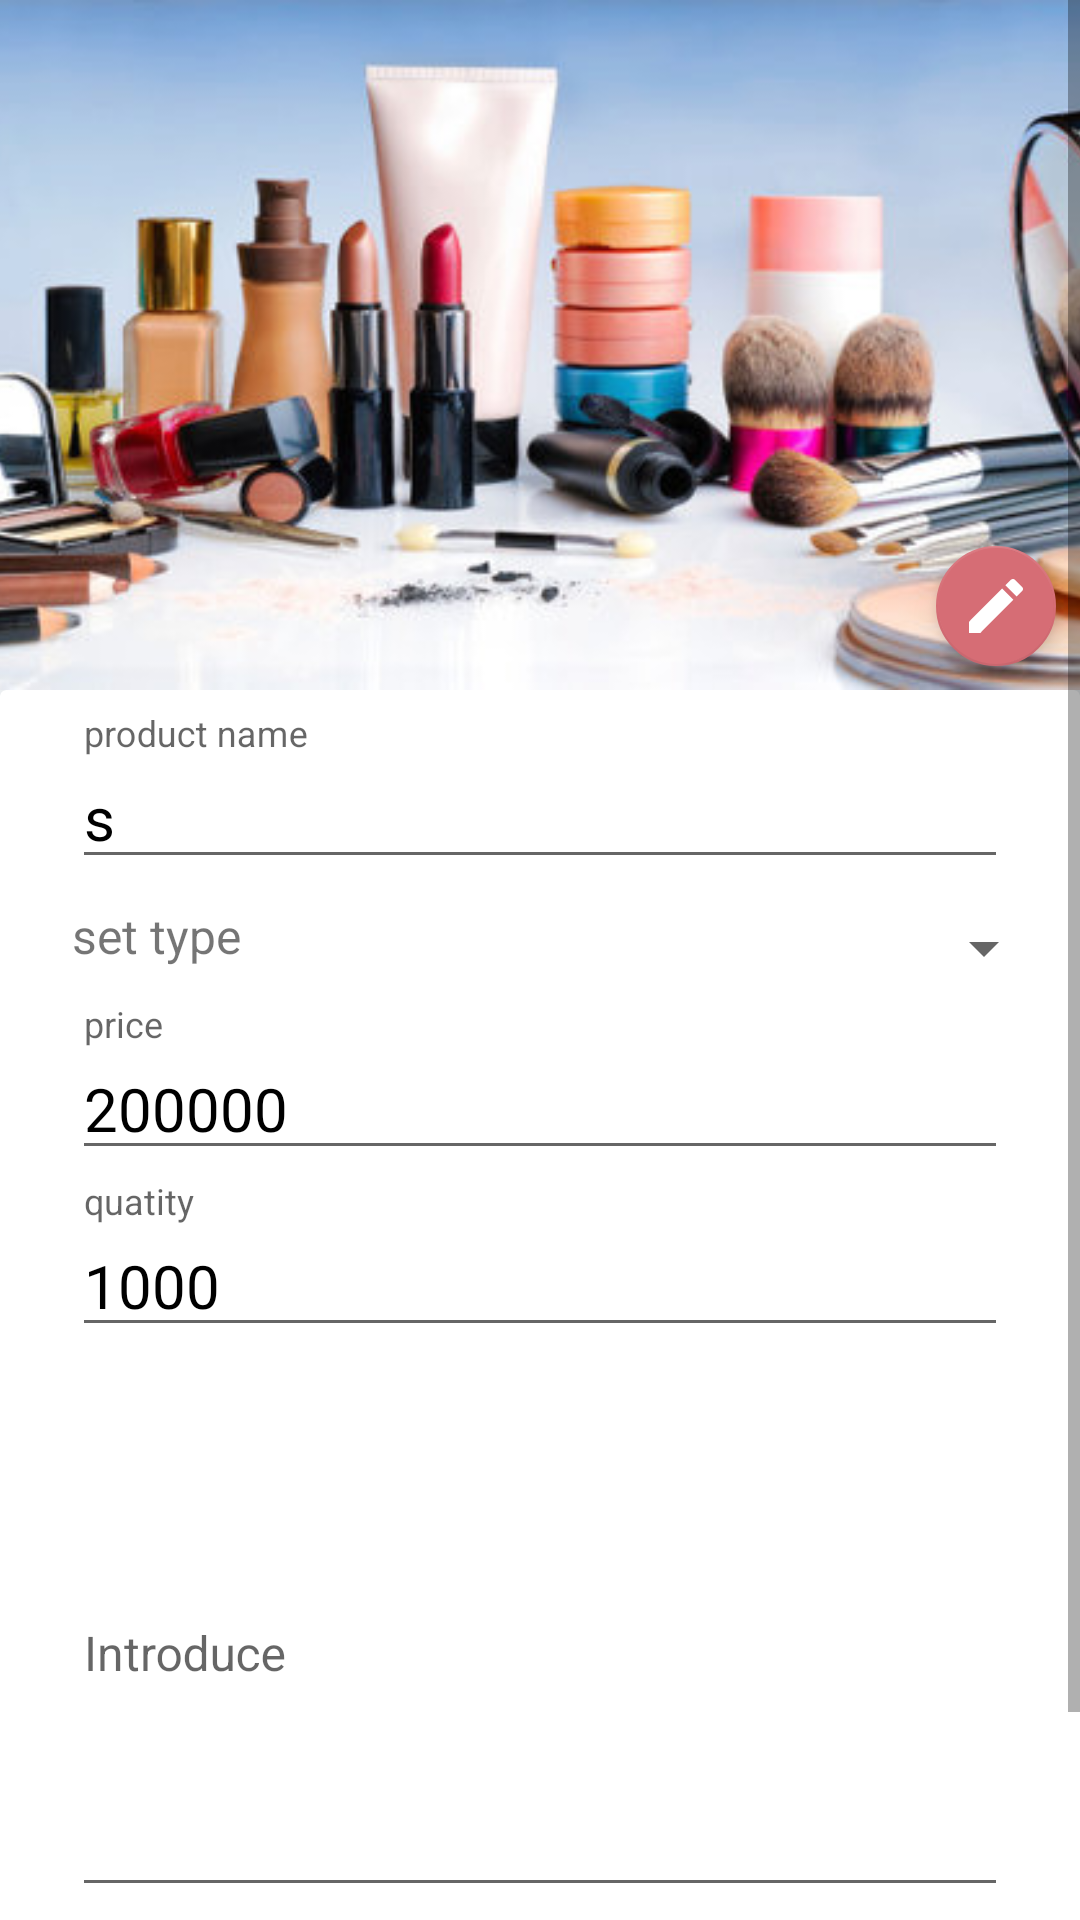

Screen size 1080 × 1920. Icon name, then its center in pixels as point (x, y):
mode edit: point (996, 606)
